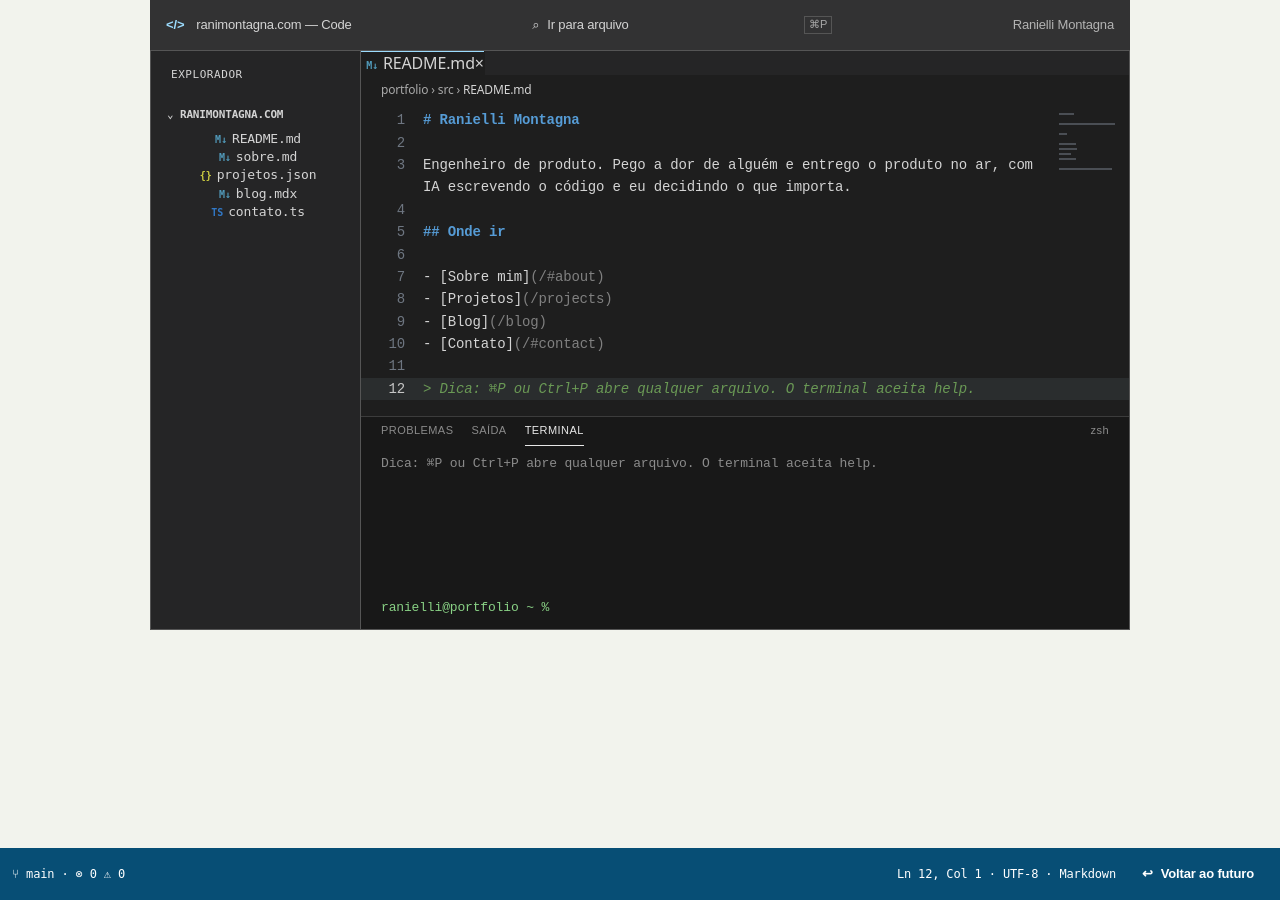
opens files from the explorer as tabs with real links inside the code
This screenshot has width=1280, height=900.
Click the button "{} projetos.json" at (256, 175), box [159,166,352,184]
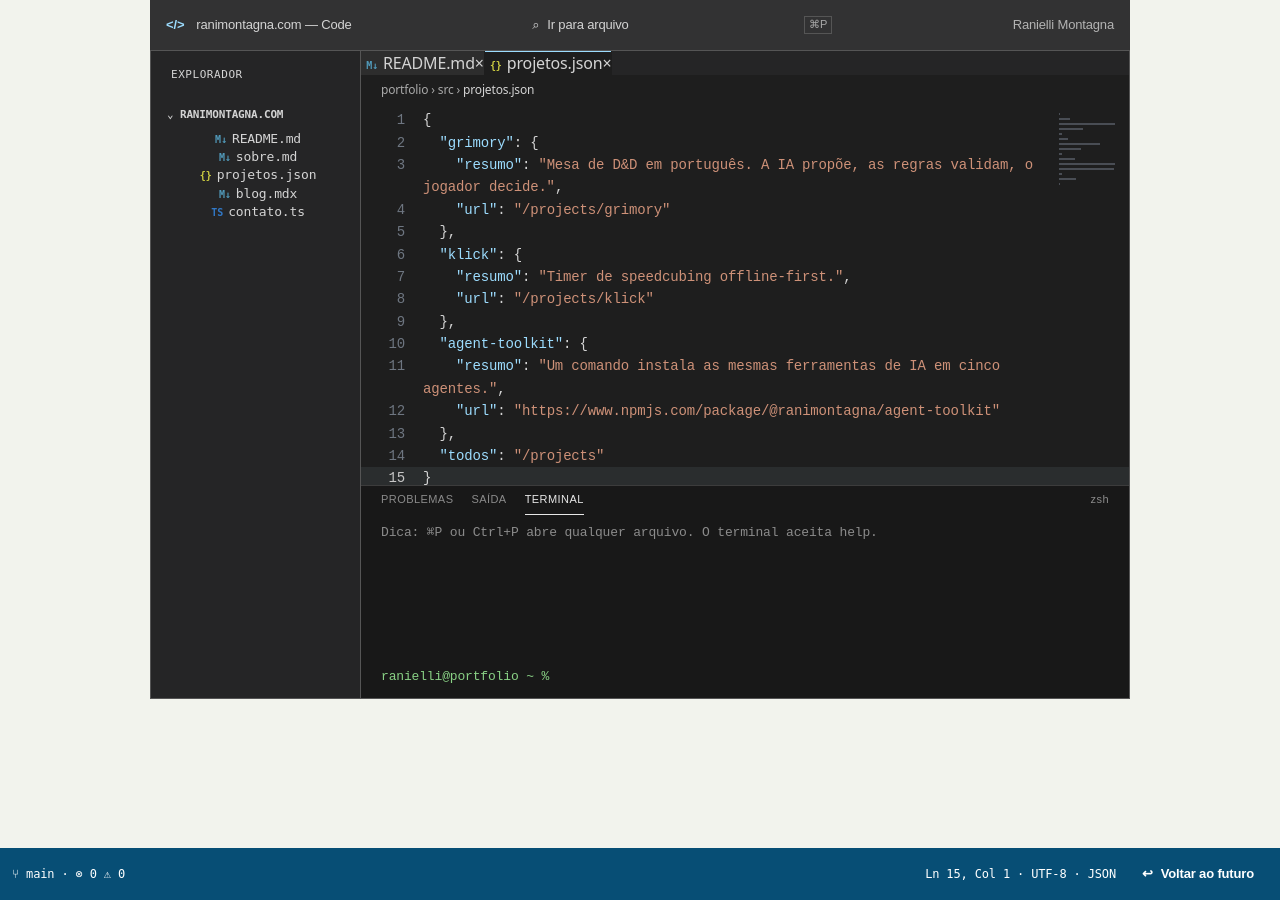
Result: the panel named "projetos.json" shows "\"grimory\"" at [440,135,514,151]
Result: the link "/projects/grimory" is shown at [522,202,662,218]
Result: the number of tabs is 2 at [361,51,475,75]; [485,51,602,75]
Click the button named "Fechar projetos.json" at (607, 63), box [602,51,612,75]
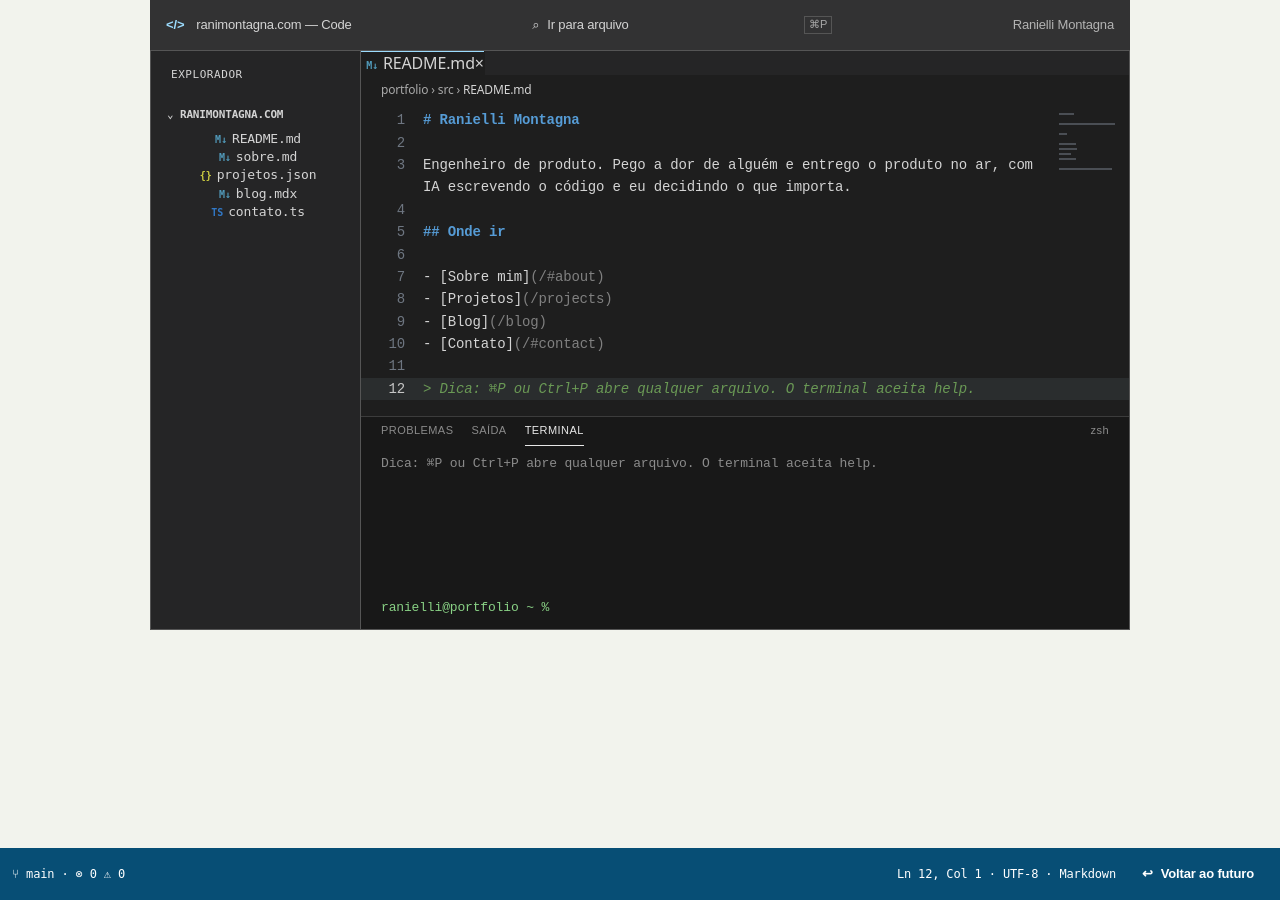
Result: the number of tabs is 1 at [361,51,475,75]
